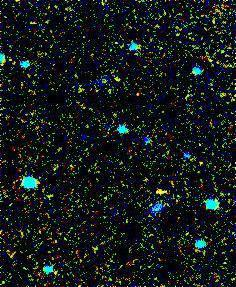star: (147, 177, 177, 207)
